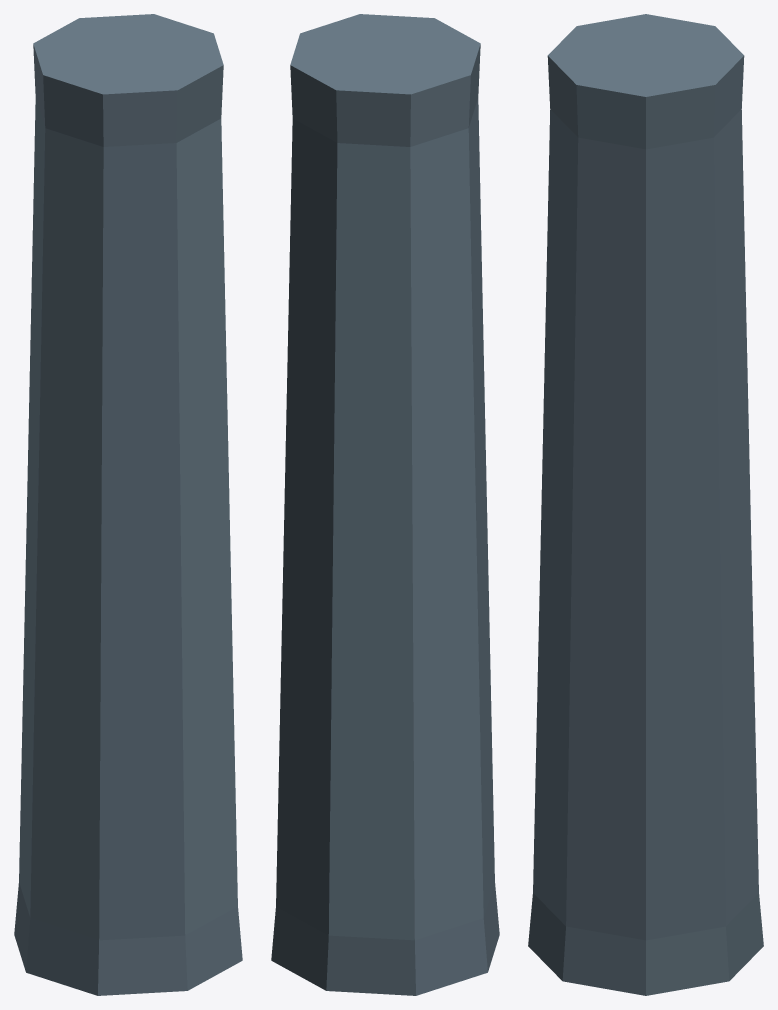
Rendered from A10_Column_Shaft_2m.fbx.
The picture shows the model from 3 angles, left to right: view 1: azimuth 30°, elevation 25°; view 2: azimuth 150°, elevation 25°; view 3: azimuth 270°, elevation 25°; orthographic projection.
Parts seen in each view (by area): view 1: A10_Column_Shaft_2m; view 2: A10_Column_Shaft_2m; view 3: A10_Column_Shaft_2m.
Part boxes in pixels (bbox=[...]): A10_Column_Shaft_2m: bbox=[14, 14, 242, 995]; A10_Column_Shaft_2m: bbox=[271, 14, 499, 995]; A10_Column_Shaft_2m: bbox=[528, 14, 763, 995].
Bounding box in the file's own units: 0.48 × 2 × 0.48.
Materials: 1 (1 with a texture image).
